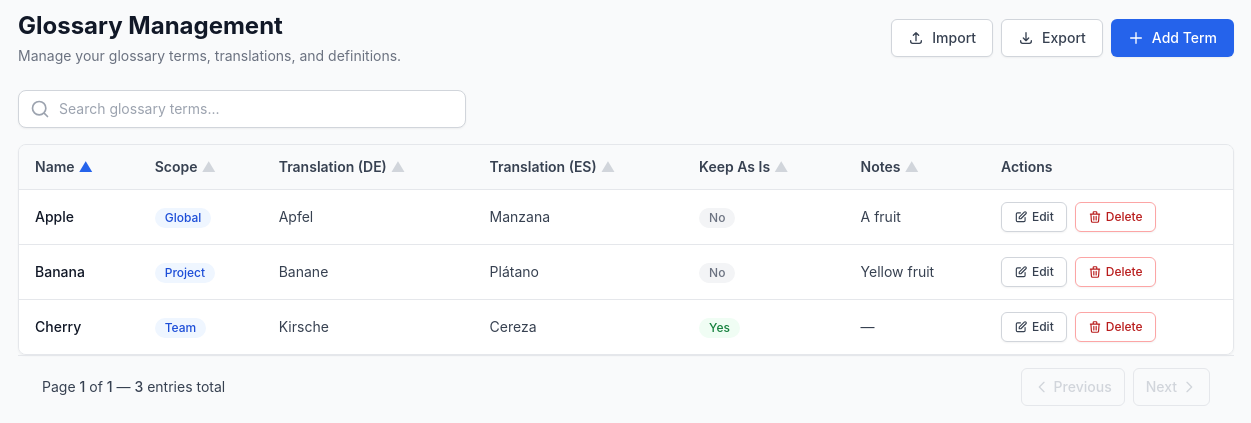
Test case: App › searching terms › shows all terms when search is cleared
Check: the text "Apple" is shown, box [19,190,139,244]
Type "Apple" into the field labelled "Search glossary terms".
click(242, 109); type("Apple")  # box [18,90,466,128]
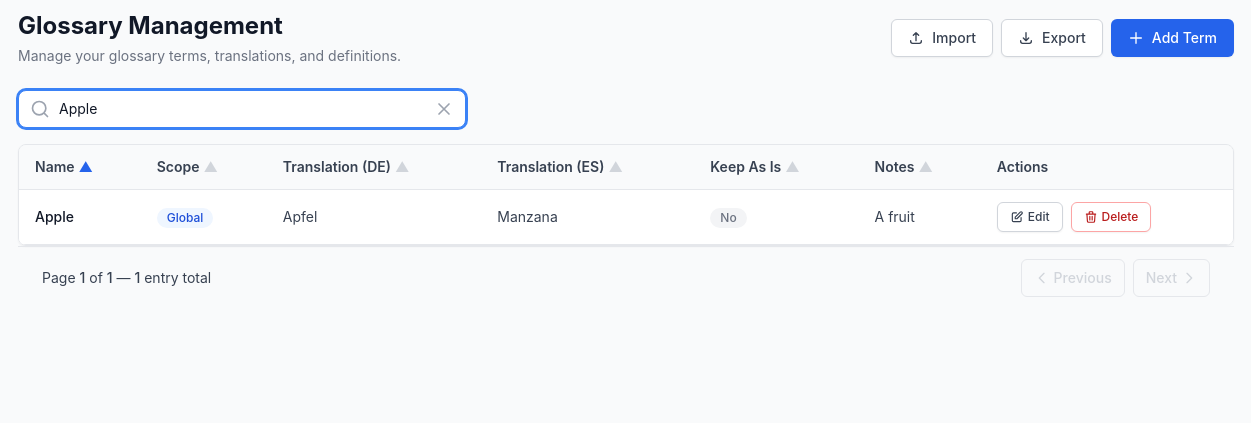
Check: the text "Banana" is gone
Clear the field named "Search glossary terms" at [242, 109], box [18,90,466,128]
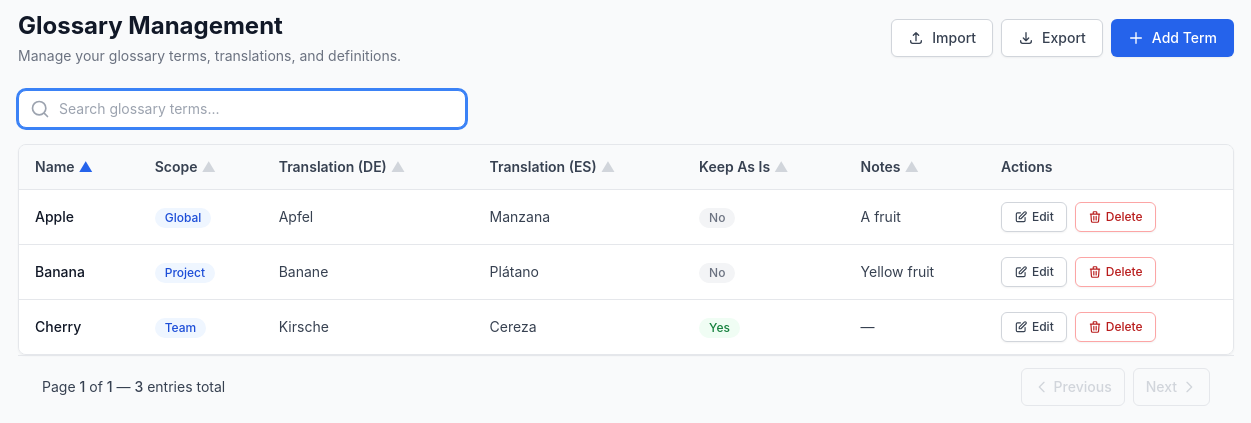
Check: the text "Apple" is shown, box [19,190,139,244]
Check: the text "Banana" is shown, box [19,244,139,300]
Check: the text "Cherry" is shown, box [19,300,139,354]
